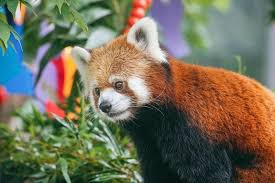redPanda: (72, 17, 259, 157)
